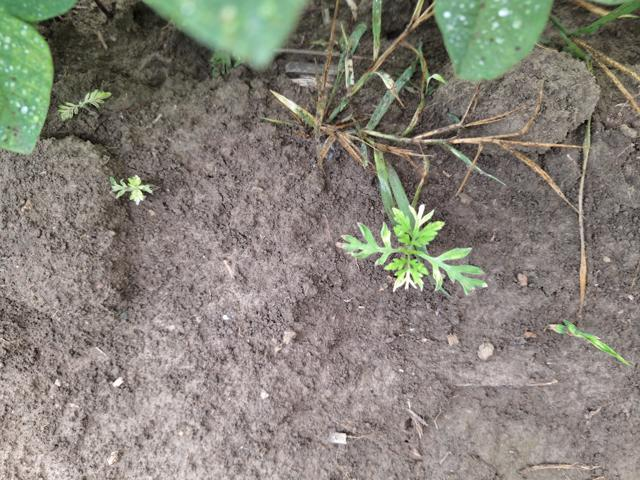bad weed: (250, 4, 610, 188), (330, 186, 513, 304), (543, 310, 632, 376), (112, 163, 168, 210), (60, 80, 112, 127)
